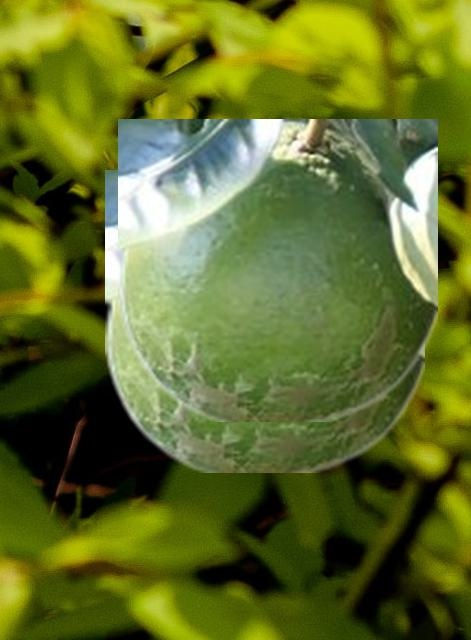dalandan: (105, 170, 423, 471), (118, 119, 436, 420)
